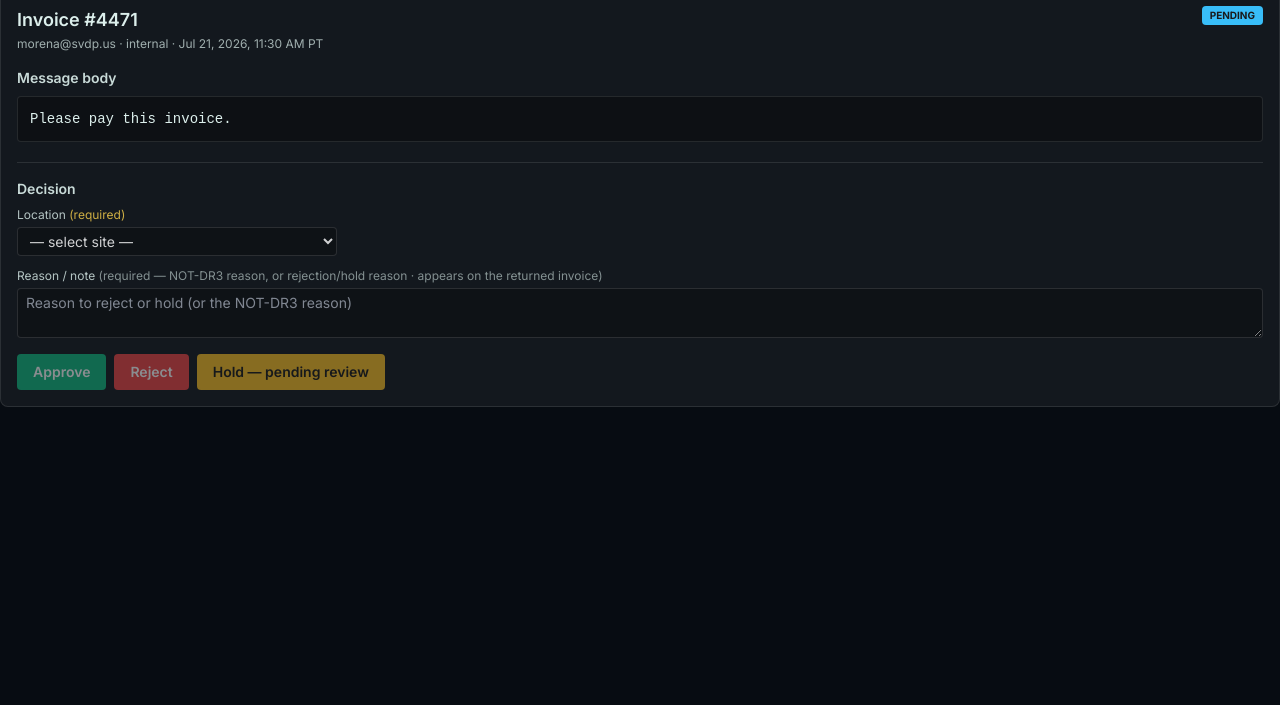
Scenario: DetailPanel — structured Approve gating (Amendment 5) › keeps Approve disabled until all four structured fields are complete
Expected: the button "Approve" is disabled, x1=17 y1=354 x2=106 y2=390
Select "Woodland" in the dropdown at point(177, 242), box x1=17 y1=227 x2=337 y2=256
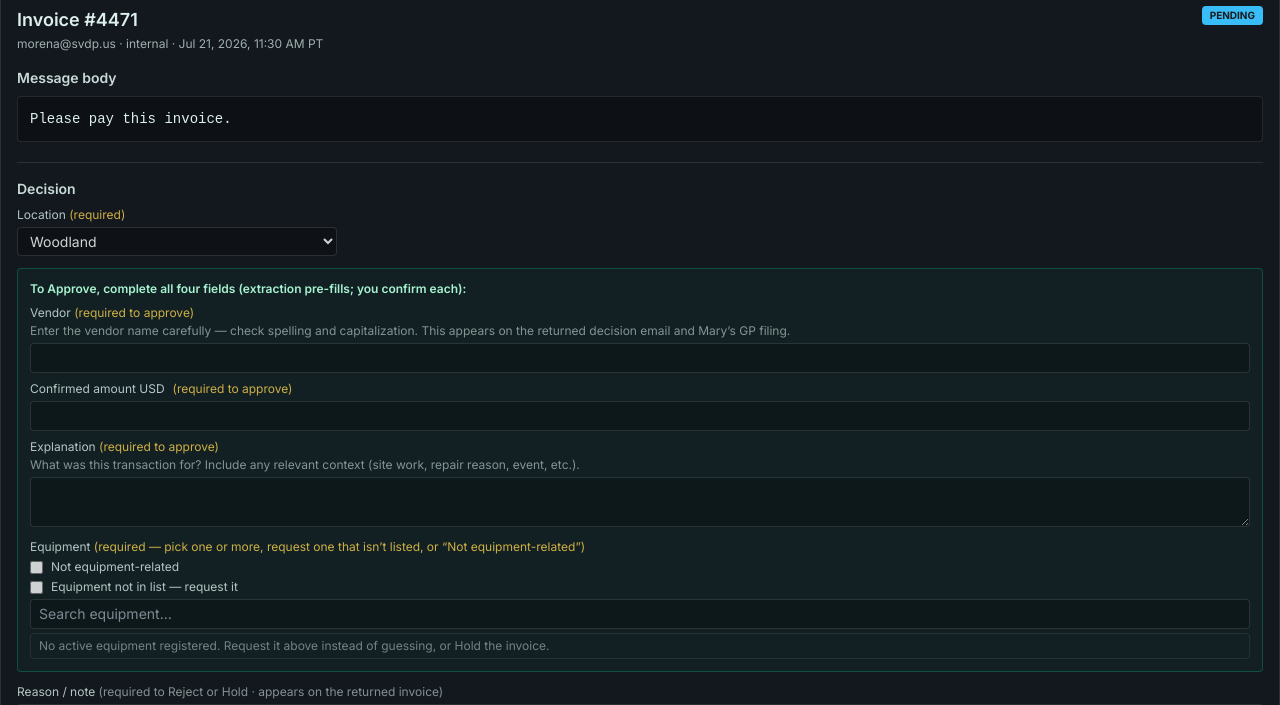
Type "Sunbelt Rentals" into the field labelled "Enter the vendor name carefully" at point(640, 358), box x1=30 y1=343 x2=1250 y2=373
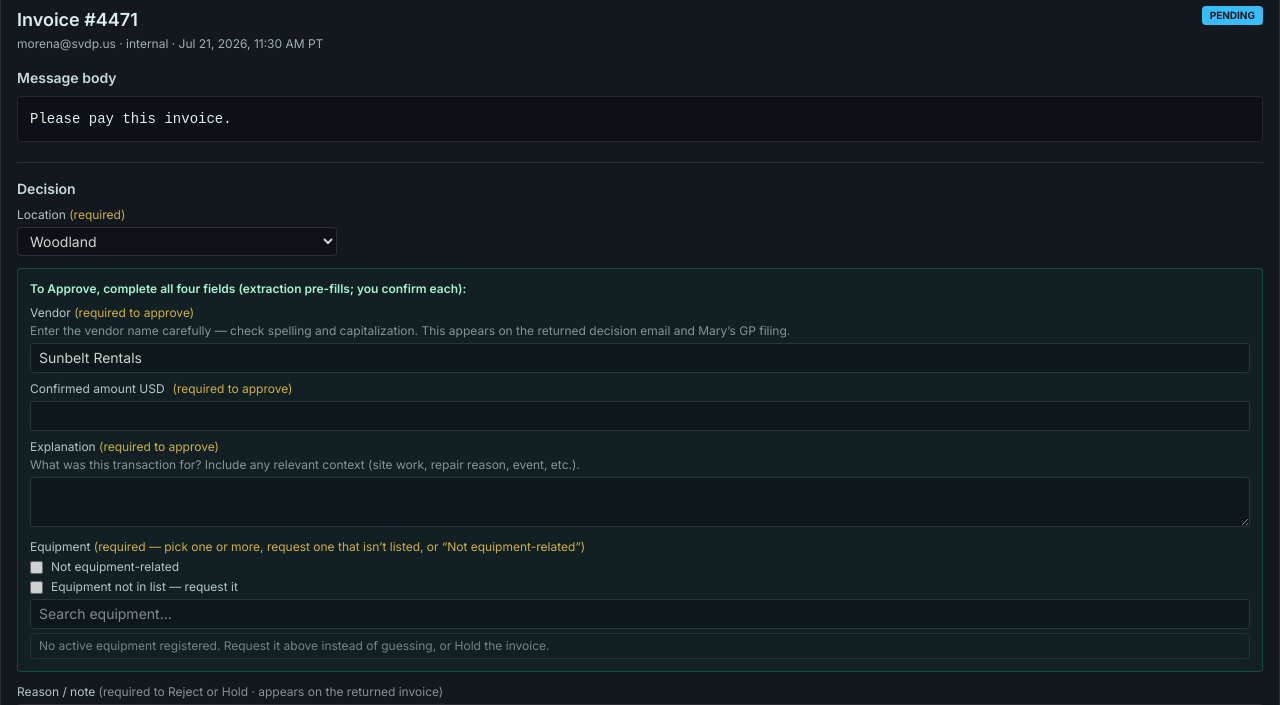
Type "125.00" into the field labelled "Confirmed amount USD (required to approve)" at point(640, 416), box x1=30 y1=401 x2=1250 y2=431
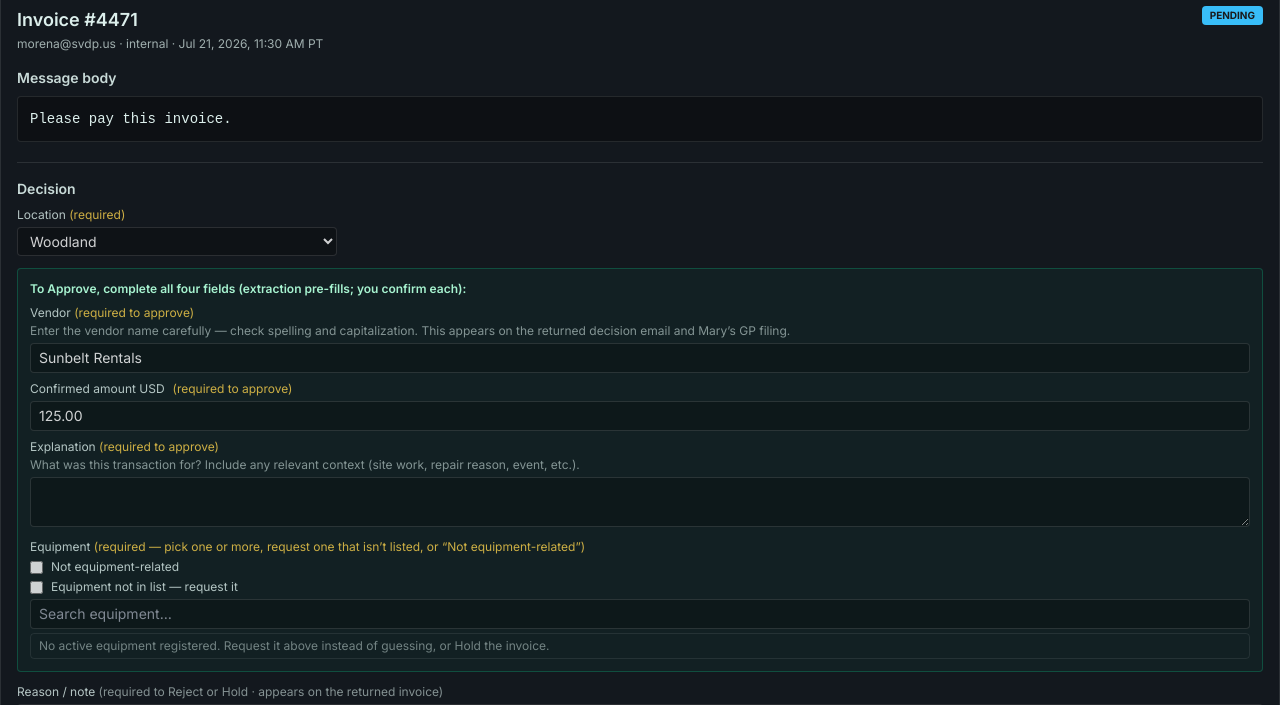
Type "mower rental" into the text box labelled "What was this transaction for" at point(640, 502), box x1=30 y1=477 x2=1250 y2=527
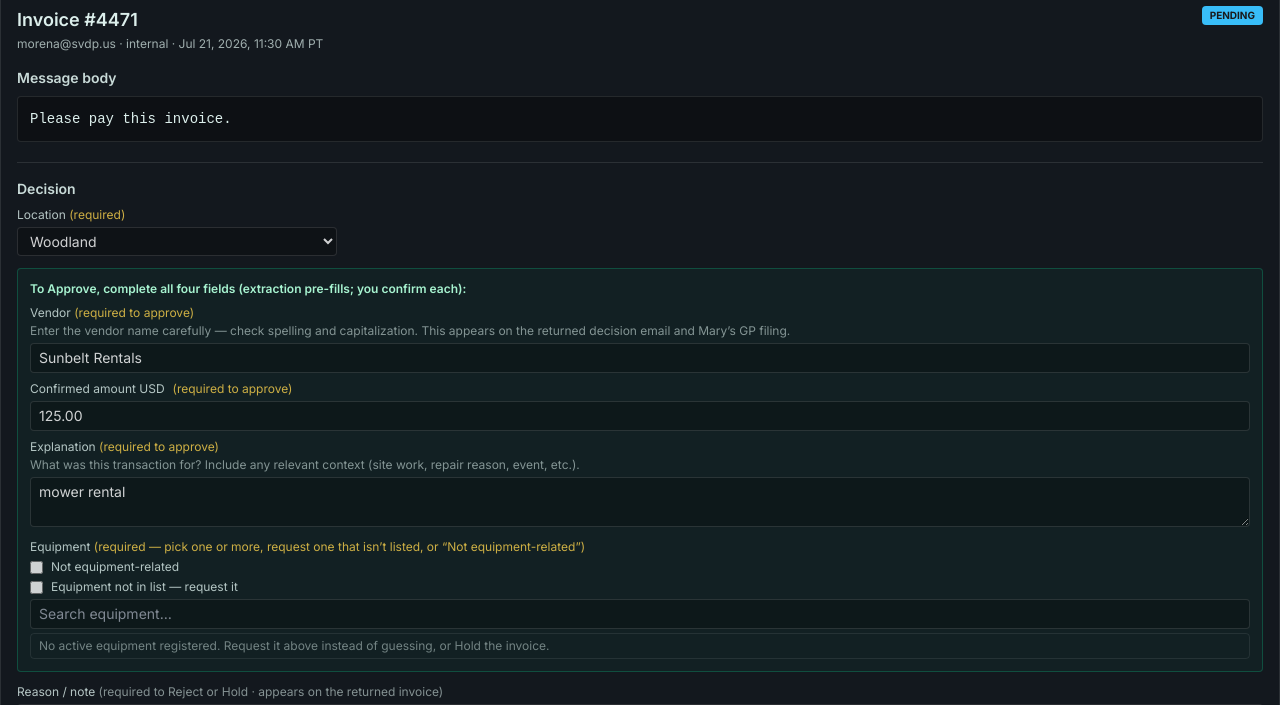
Click the checkbox labelled "Not equipment-related" at point(36, 567), box x1=30 y1=560 x2=43 y2=574
(page scrolled)
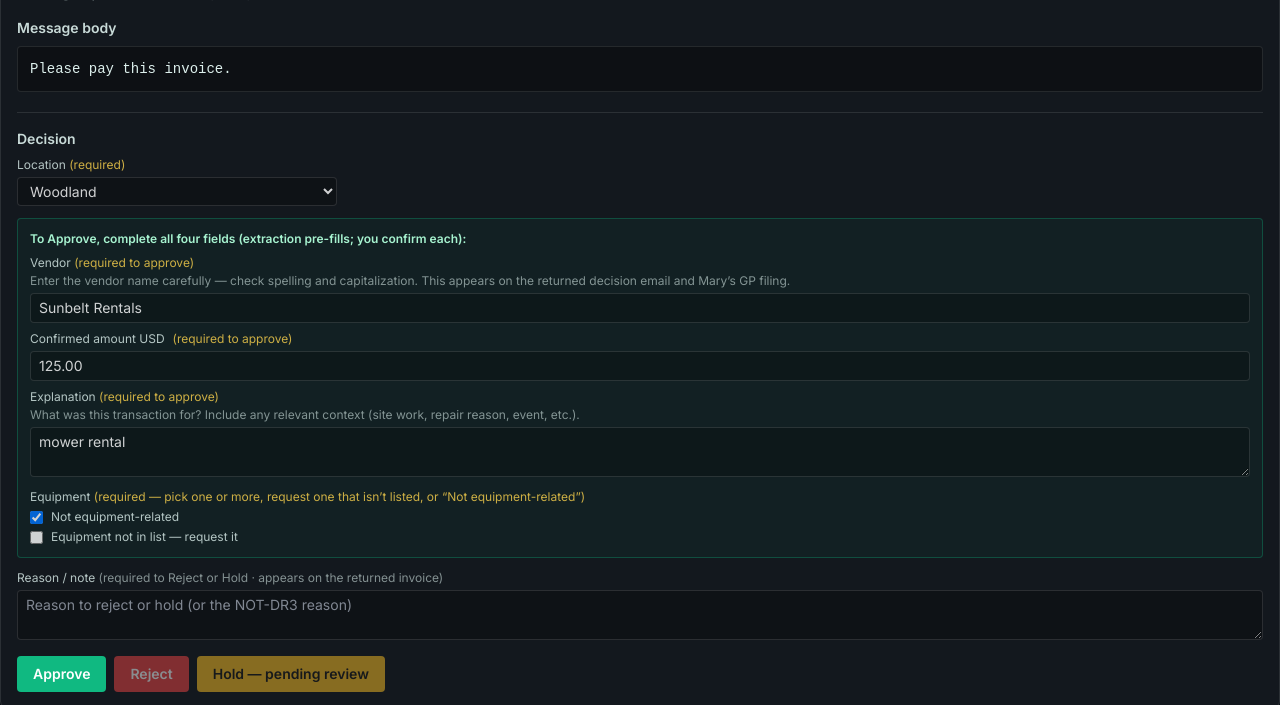
Now the button "Approve" is enabled, box x1=17 y1=656 x2=106 y2=692
